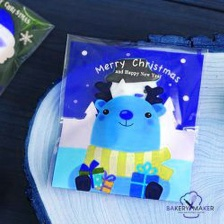snack: (41, 25, 214, 210), (0, 0, 60, 98)
